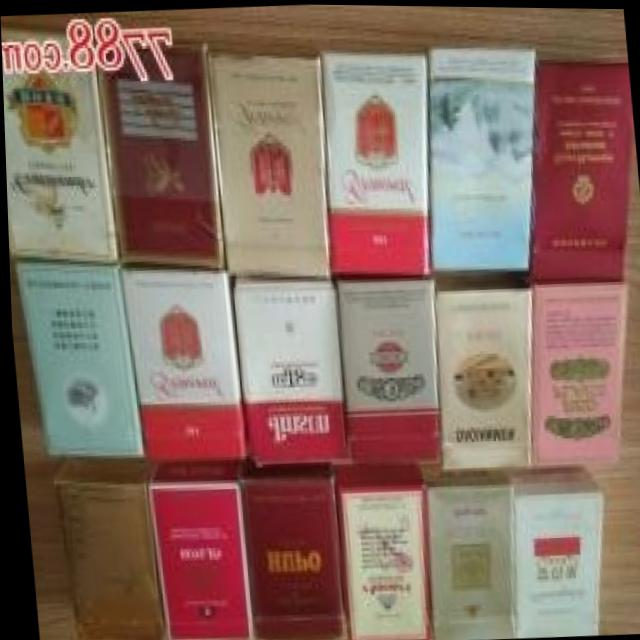box: (93, 36, 221, 270), (207, 49, 327, 277), (1, 27, 116, 262), (15, 258, 143, 460), (118, 265, 245, 462), (428, 46, 535, 270), (323, 47, 427, 274), (530, 61, 634, 278), (228, 275, 346, 463), (48, 460, 159, 640), (336, 276, 438, 466), (238, 459, 345, 640), (530, 280, 626, 467), (145, 461, 245, 640), (433, 286, 531, 468), (331, 463, 426, 640), (416, 465, 511, 640), (508, 465, 600, 637)
